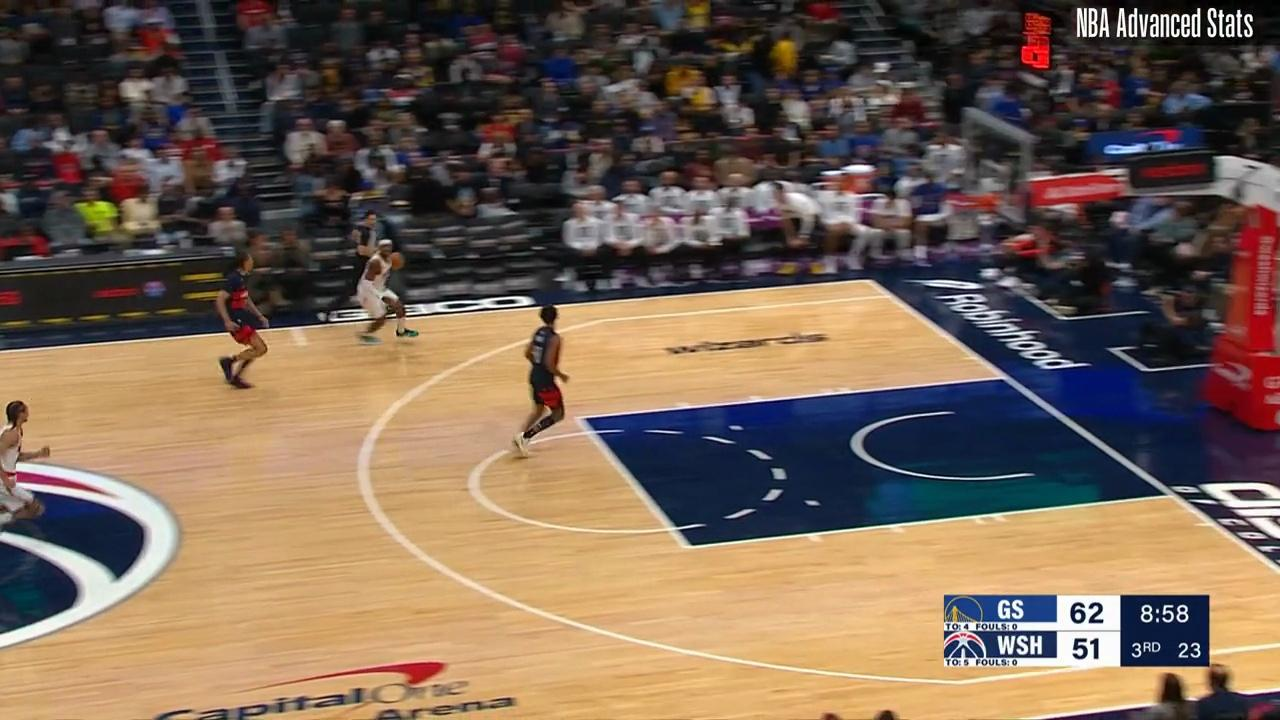basketball: (387, 252, 406, 273)
